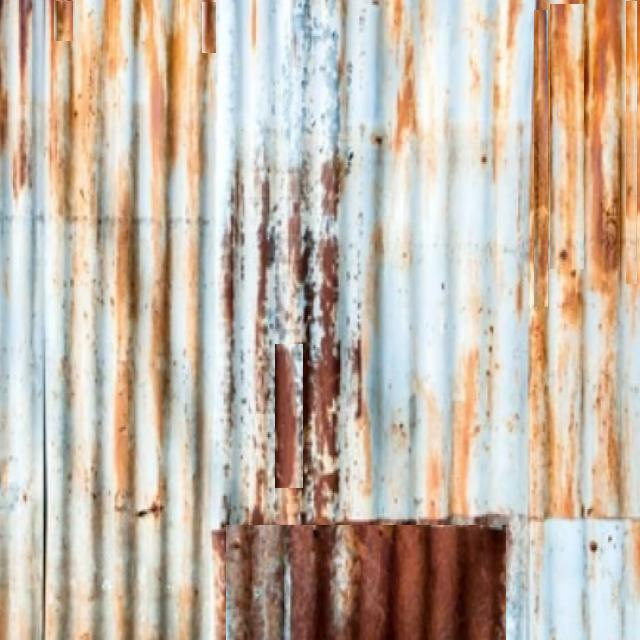Corrosion: (221, 524, 507, 640), (306, 271, 340, 520), (313, 241, 339, 522), (275, 344, 304, 488), (394, 527, 426, 640)
